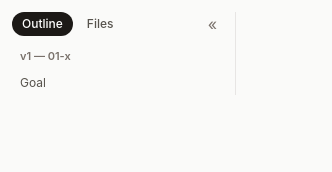
Test case: Sidebar › labels its tabs and file tree with the expected semantics
Expected: the element named "Sidebar views" is shown, [12,12,223,36]
Click the tab "files" at (100, 24), box [77,12,123,36]
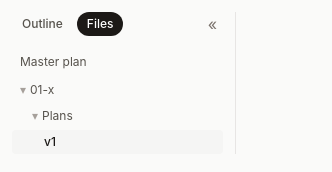
Expected: the list named "Project files" is shown, [12,48,223,154]
